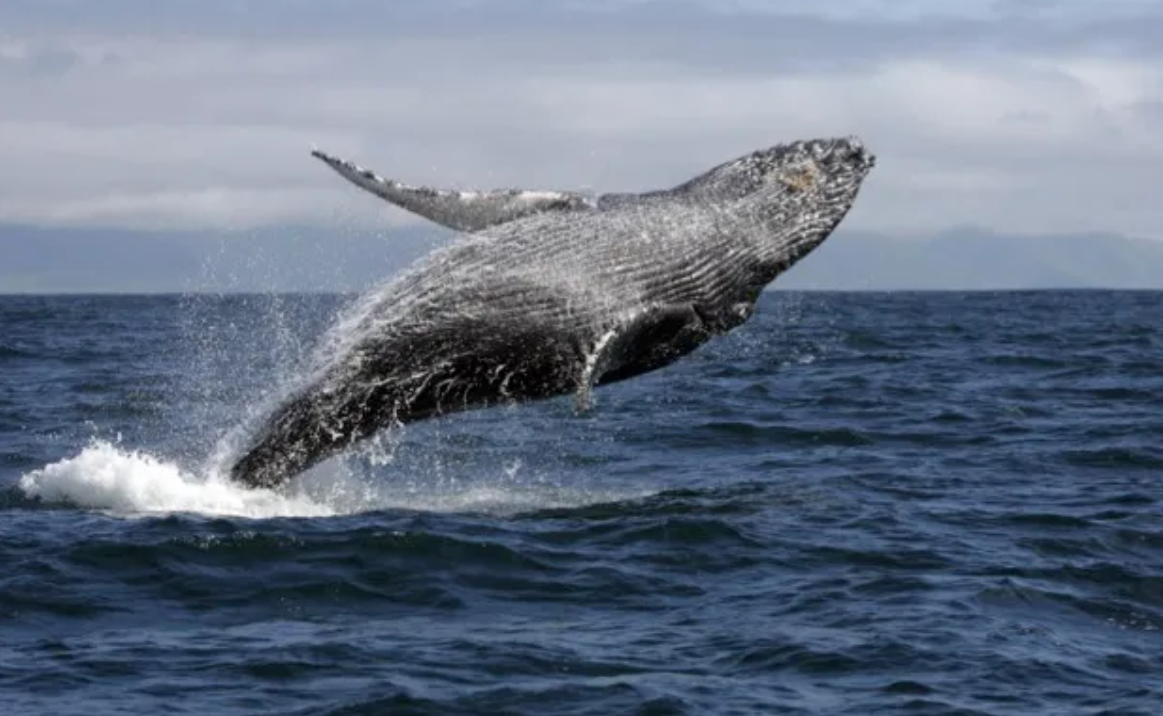Humpback whale: (184, 129, 884, 494)
